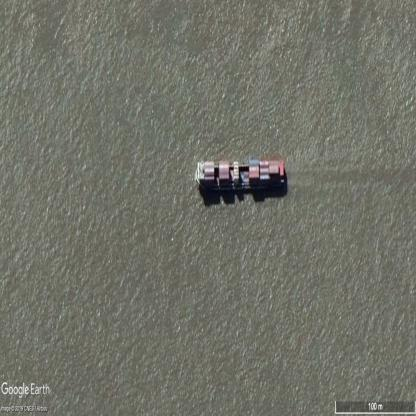ship: (196, 153, 286, 193)
